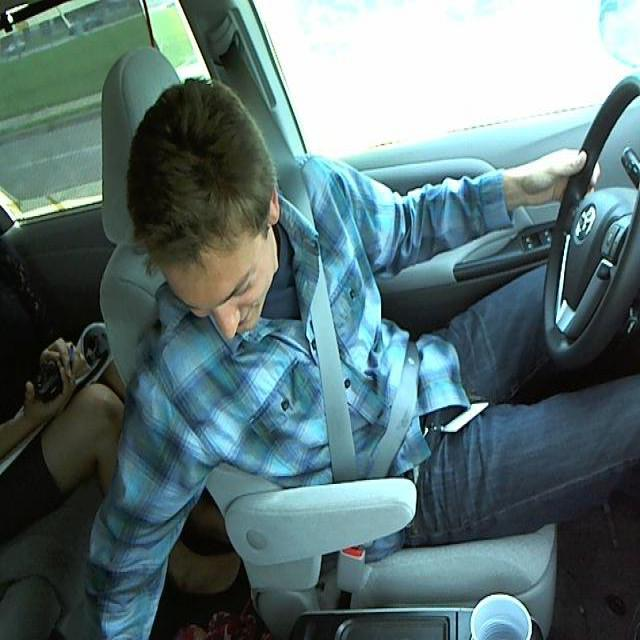seatbelt: (290, 214, 429, 474)
